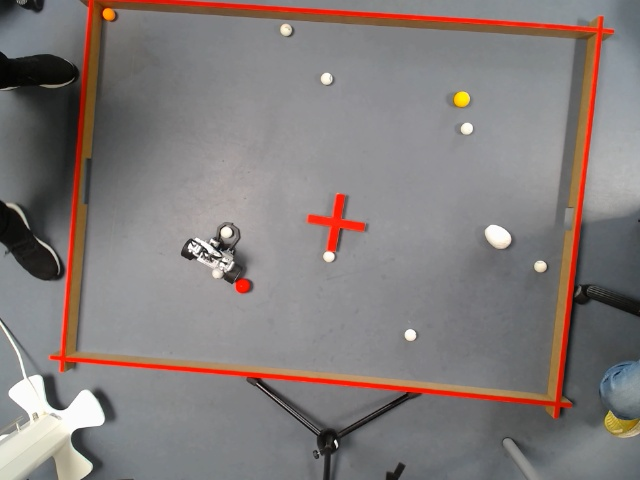big_goal: (77, 154, 97, 206)
cross: (300, 192, 368, 251)
egg: (484, 224, 512, 249)
orange: (101, 8, 118, 22)
robot: (181, 218, 246, 283)
small_goal: (558, 204, 579, 231)
wall: (43, 347, 581, 424), (538, 14, 622, 424), (44, 3, 113, 376), (64, 2, 622, 39)
white: (457, 122, 474, 134), (404, 328, 417, 340), (533, 260, 546, 272), (319, 73, 333, 84), (280, 25, 291, 35), (221, 227, 231, 238), (323, 252, 334, 262), (212, 268, 221, 278)
